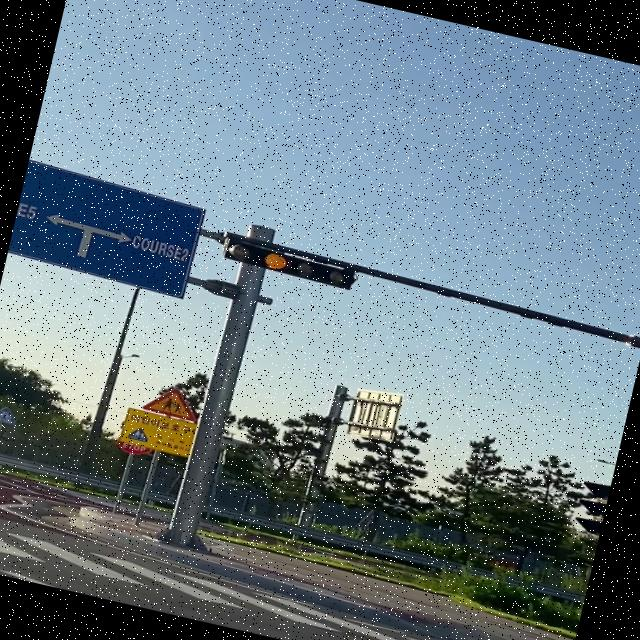yellow_light: (220, 237, 356, 290)
